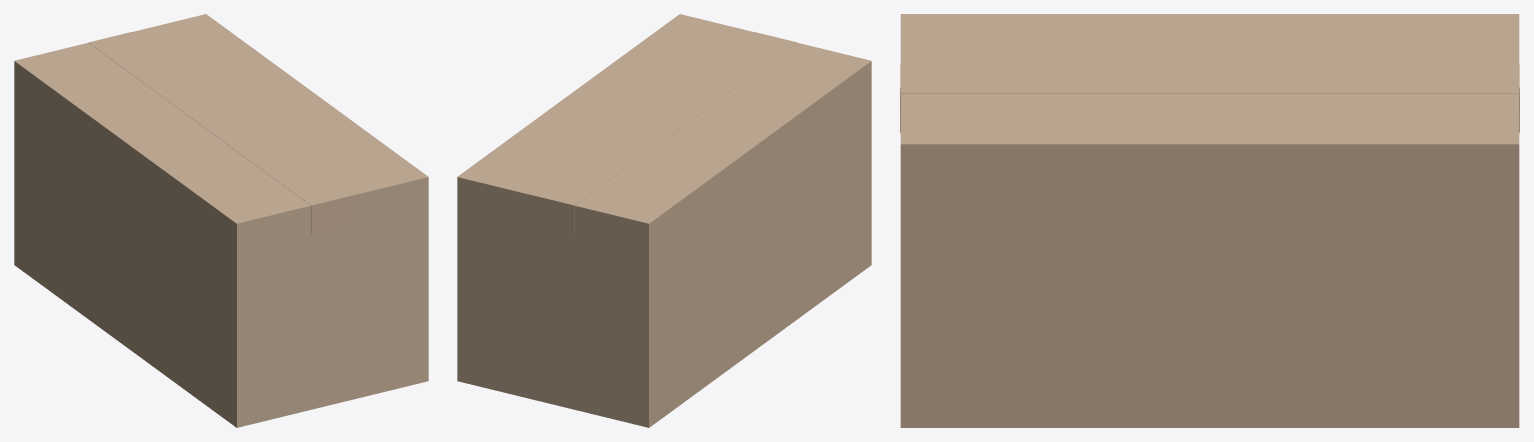
The model's file is boxRECTANGLE.FBX.
The picture shows the model from 3 angles, left to right: view 1: azimuth 30°, elevation 25°; view 2: azimuth 150°, elevation 25°; view 3: azimuth 270°, elevation 25°; orthographic projection. The views are drawn at different scales.
Parts seen in each view (by area): view 1: boxRECTANGLE; view 2: boxRECTANGLE; view 3: boxRECTANGLE.
Part boxes in pixels (x1,y1,x2,y2): boxRECTANGLE: [14, 14, 428, 427]; boxRECTANGLE: [457, 14, 871, 427]; boxRECTANGLE: [900, 14, 1519, 427].
Bounding box in the file's own units: 15.8 × 16.07 × 31.77.
